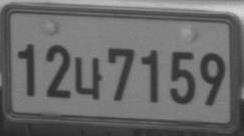1: (138, 49, 165, 103), (15, 43, 40, 96)
2: (45, 43, 70, 98)
5: (168, 50, 195, 104)
7: (107, 47, 134, 101)
9: (199, 51, 225, 107)
나: (73, 56, 103, 100)
